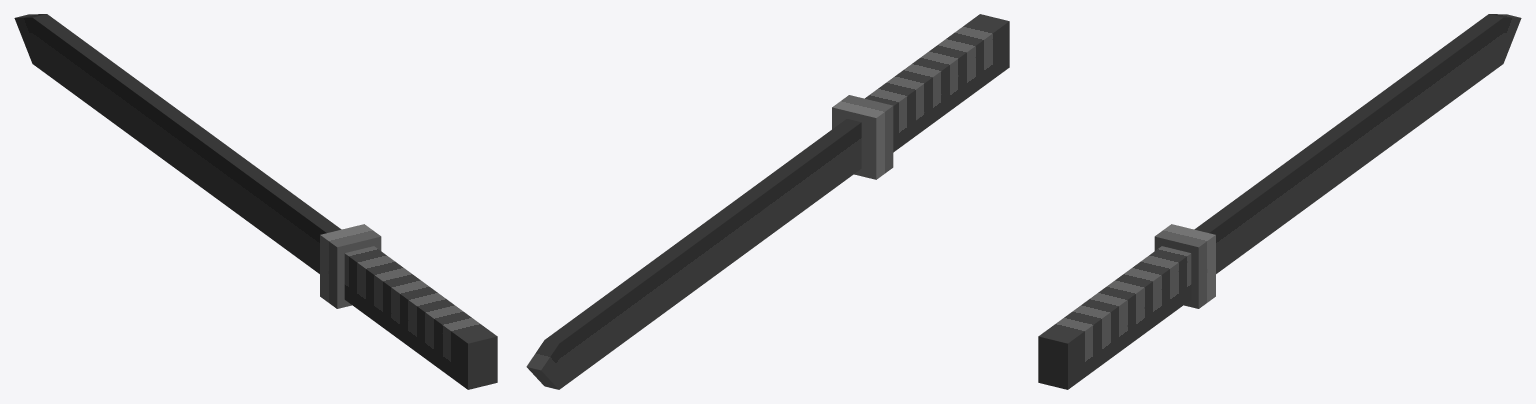
Rendered from steelBlade.fbx.
The picture shows the model from 3 angles, left to right: view 1: azimuth 30°, elevation 25°; view 2: azimuth 150°, elevation 25°; view 3: azimuth 330°, elevation 25°; orthographic projection.
Visible parts, largest first — view 1: cube_2, cube, cube_1; view 2: cube_2, cube, cube_1; view 3: cube_2, cube, cube_1.
Part boxes in pixels (bbox=[...]): cube_2: bbox=[14, 14, 341, 273]; cube: bbox=[344, 246, 497, 389]; cube_1: bbox=[320, 224, 381, 308]; cube_2: bbox=[526, 119, 861, 389]; cube: bbox=[865, 14, 1009, 152]; cube_1: bbox=[832, 95, 893, 179]; cube_2: bbox=[1194, 14, 1521, 273]; cube: bbox=[1038, 246, 1191, 389]; cube_1: bbox=[1154, 224, 1215, 308].
Bounding box in the file's own units: 18.75 × 25 × 338.
1 material, 1 textured.
